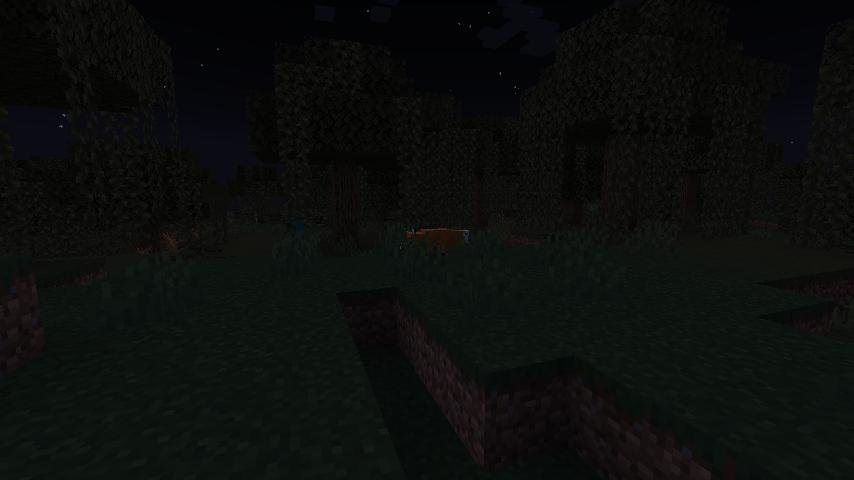fox: (394, 222, 478, 265)
zombie: (287, 206, 314, 257)
